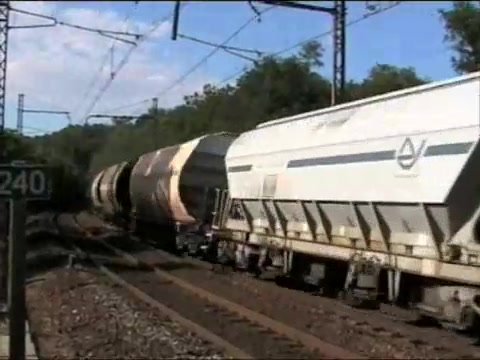train: (87, 72, 480, 330)
